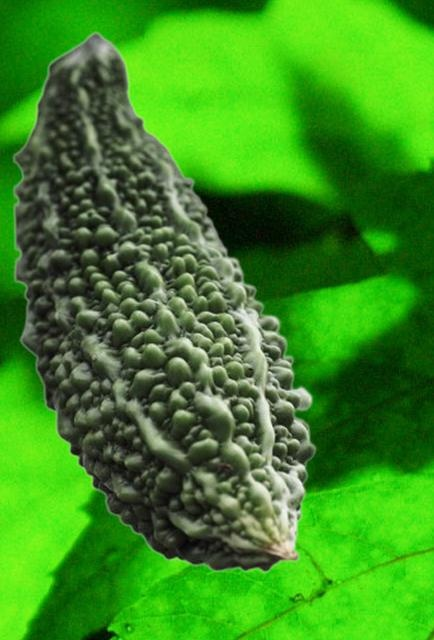ampalaya: (12, 30, 316, 572)
